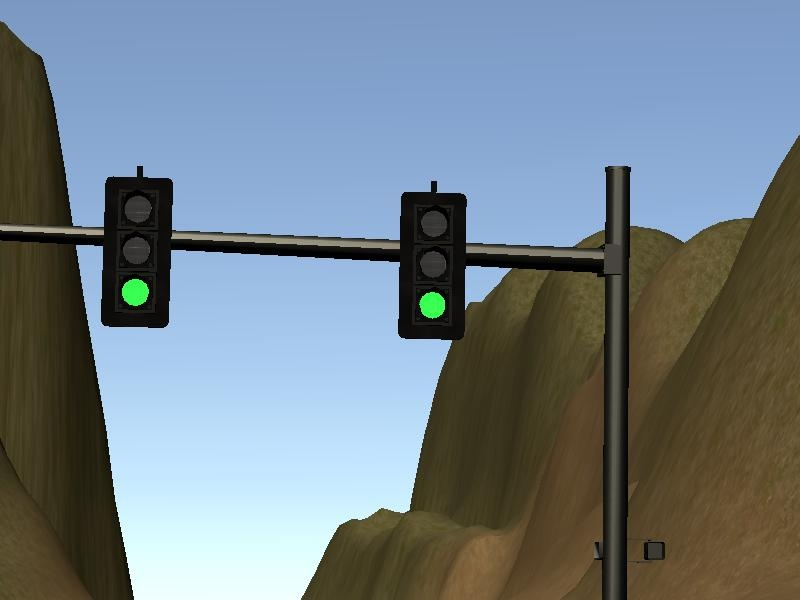GREEN: (103, 176, 172, 327), (399, 193, 464, 340)
